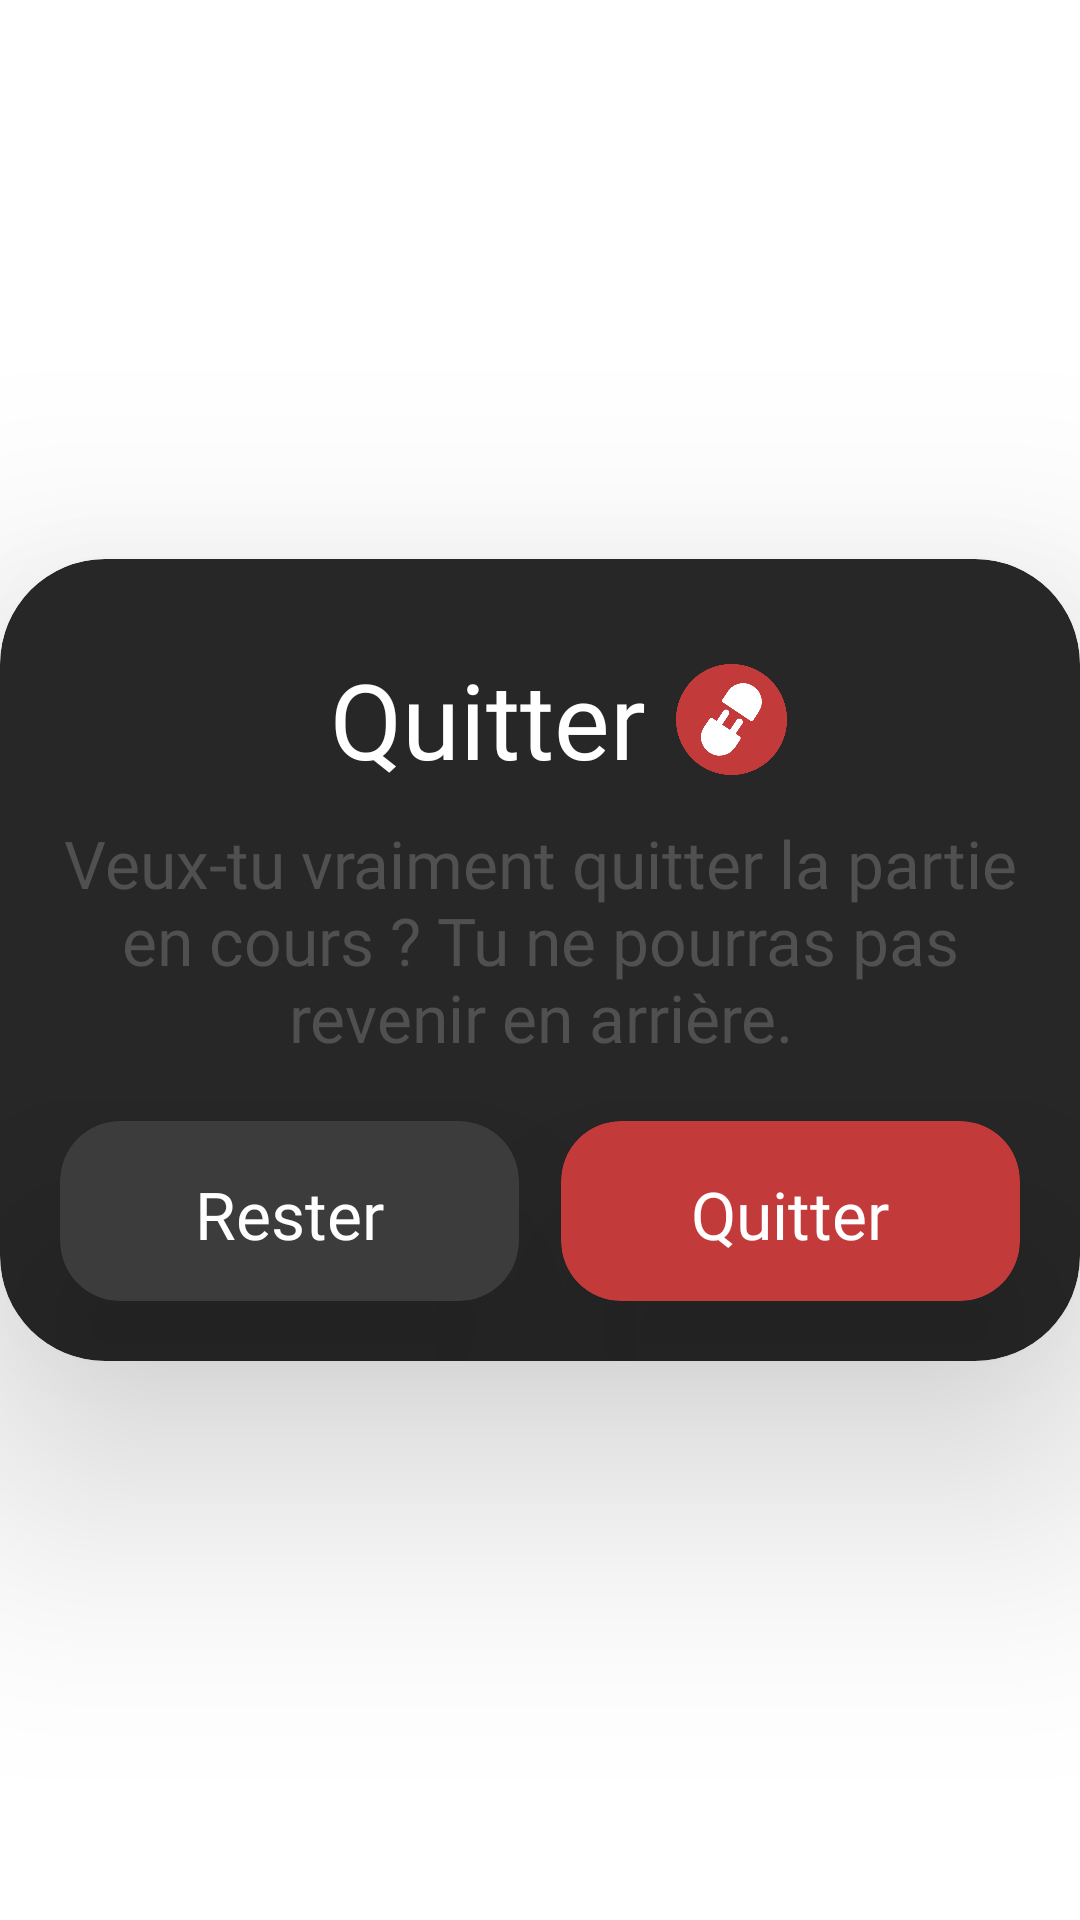

Where icons sit on this 1080×1920 app screen, as (x1, y1, x2, y2):
deconnexion: (676, 664, 787, 775)
